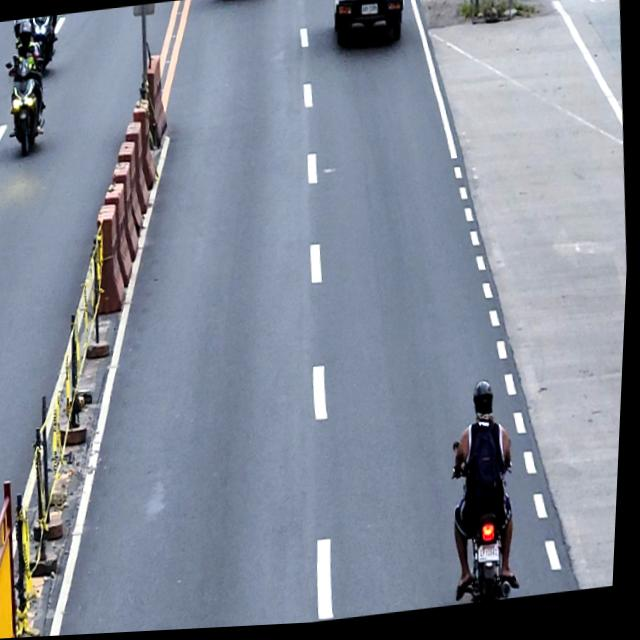License-Plate: (481, 546, 506, 570), (360, 6, 379, 21)
Motorcycle: (448, 441, 527, 608), (1, 52, 52, 159)
Truck: (329, 0, 408, 53)
